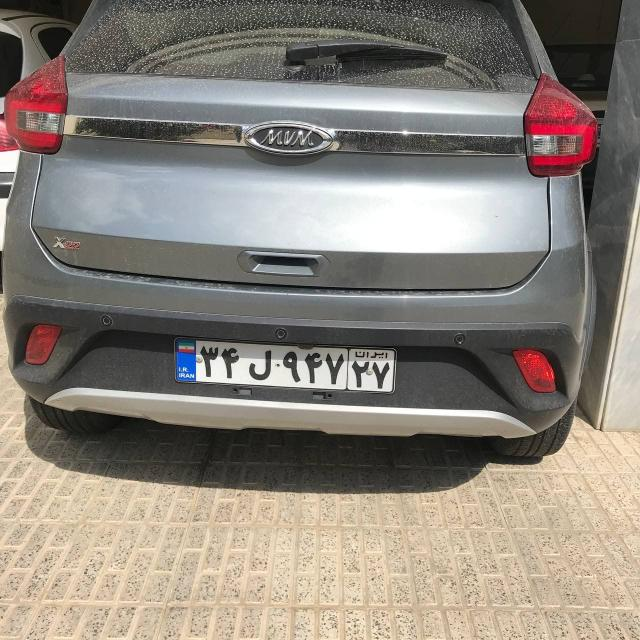Plates: (173, 338, 395, 392)
